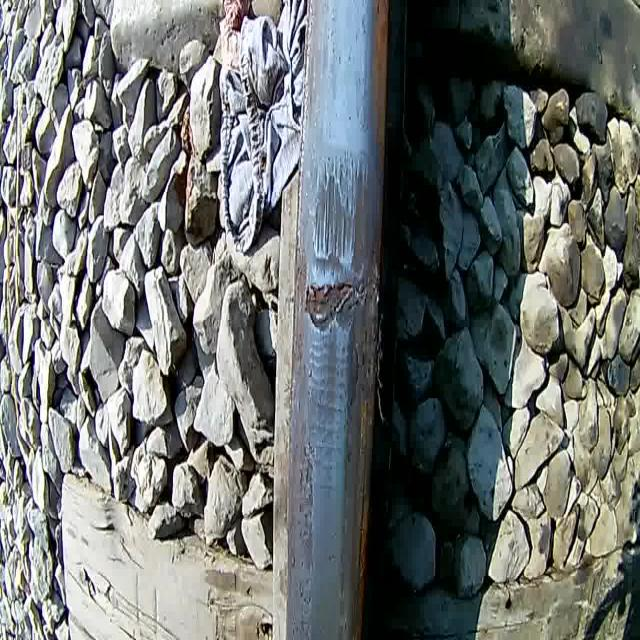Spallings: (297, 276, 385, 334)
Squats: (302, 322, 353, 496), (311, 151, 358, 275)
